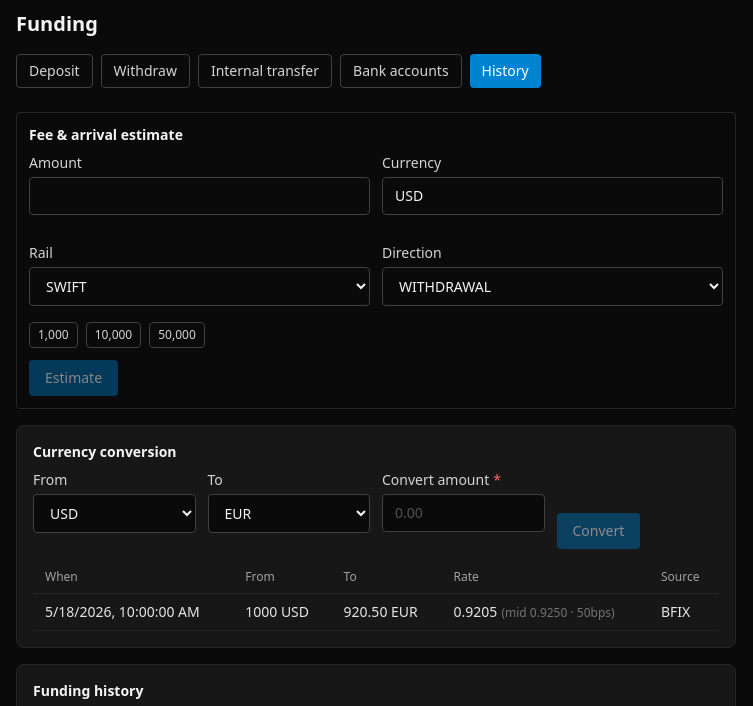
ConvertCard › posts a conversion and renders history rows
Expected: the text "920.50 EUR" is shown, [332,594,442,630]
In the field labelled "Convert amount*": (463, 513) [382,494,544,532], type "500"
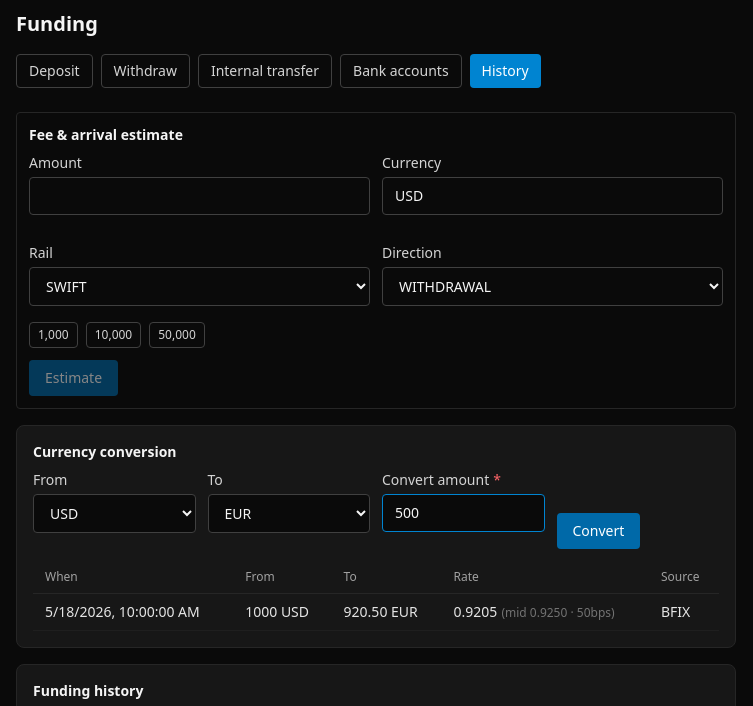
Click the button "Convert": (598, 531) [556,513,640,549]
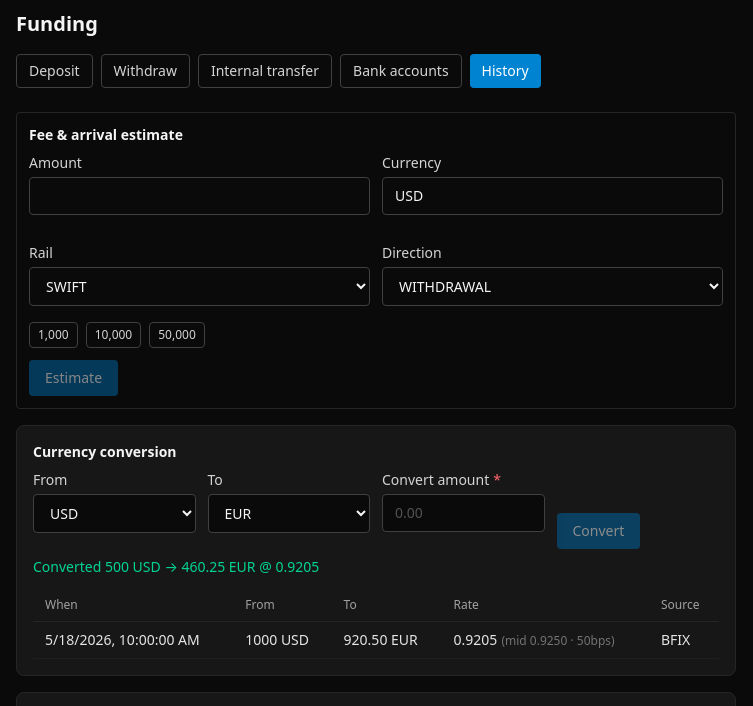
Now the text "Converted 500 USD → 460.25 EUR @ 0.9205" is shown, box [33,557,319,576]
